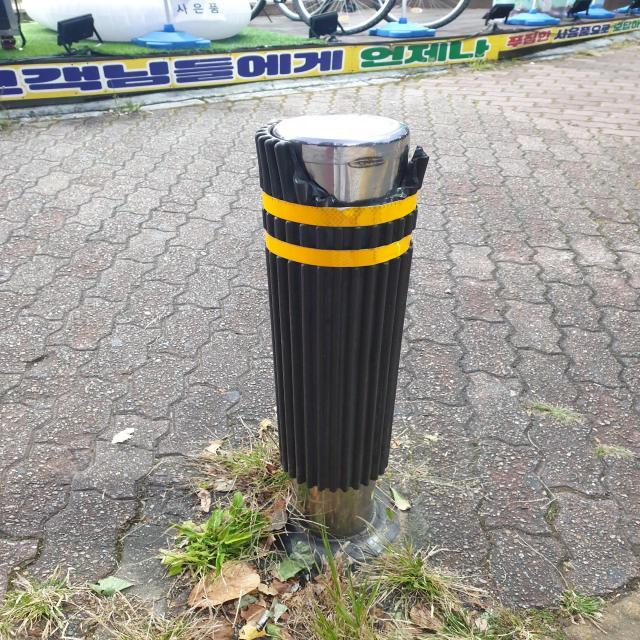pole: (257, 109, 423, 558)
